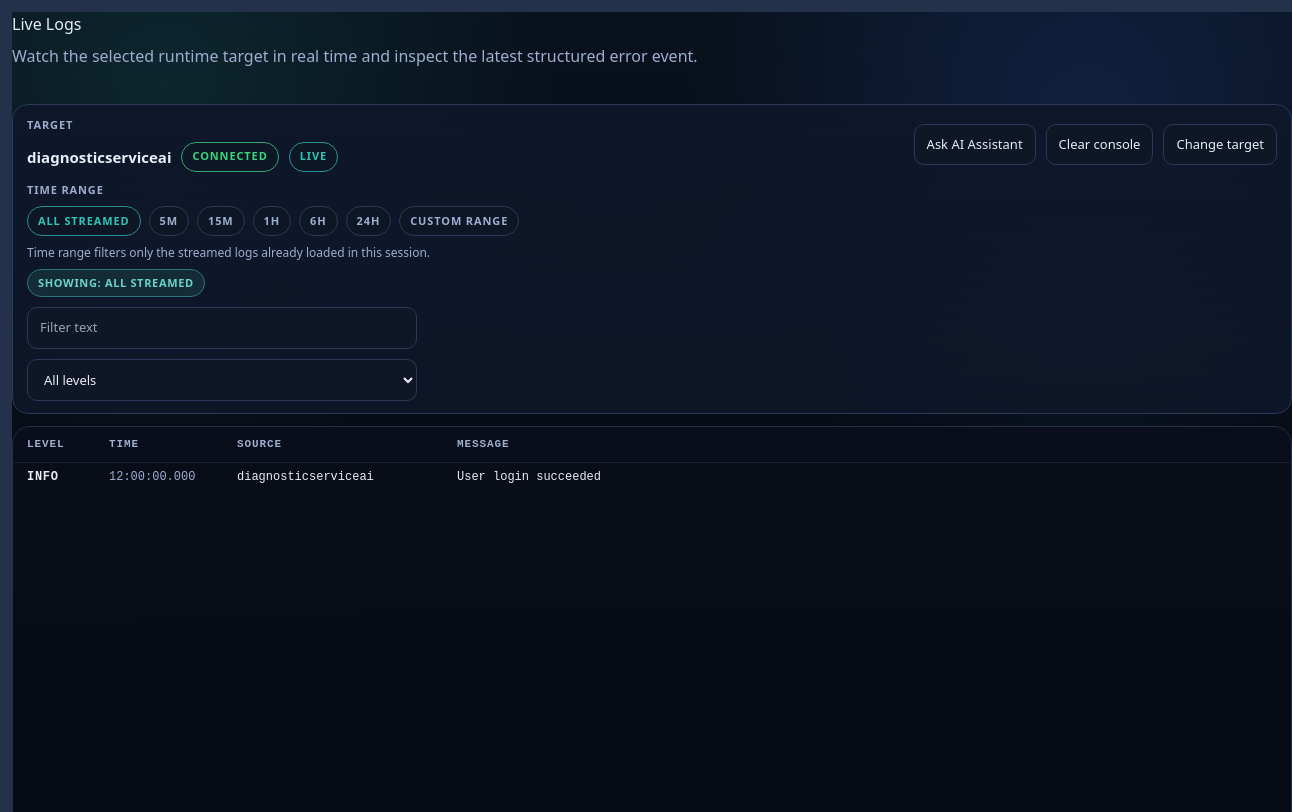
LiveLogsPage › clears the client-side stream when clear is pressed
Click the button "Clear console": (1100, 144) top-left (1046, 124), bottom-right (1154, 165)
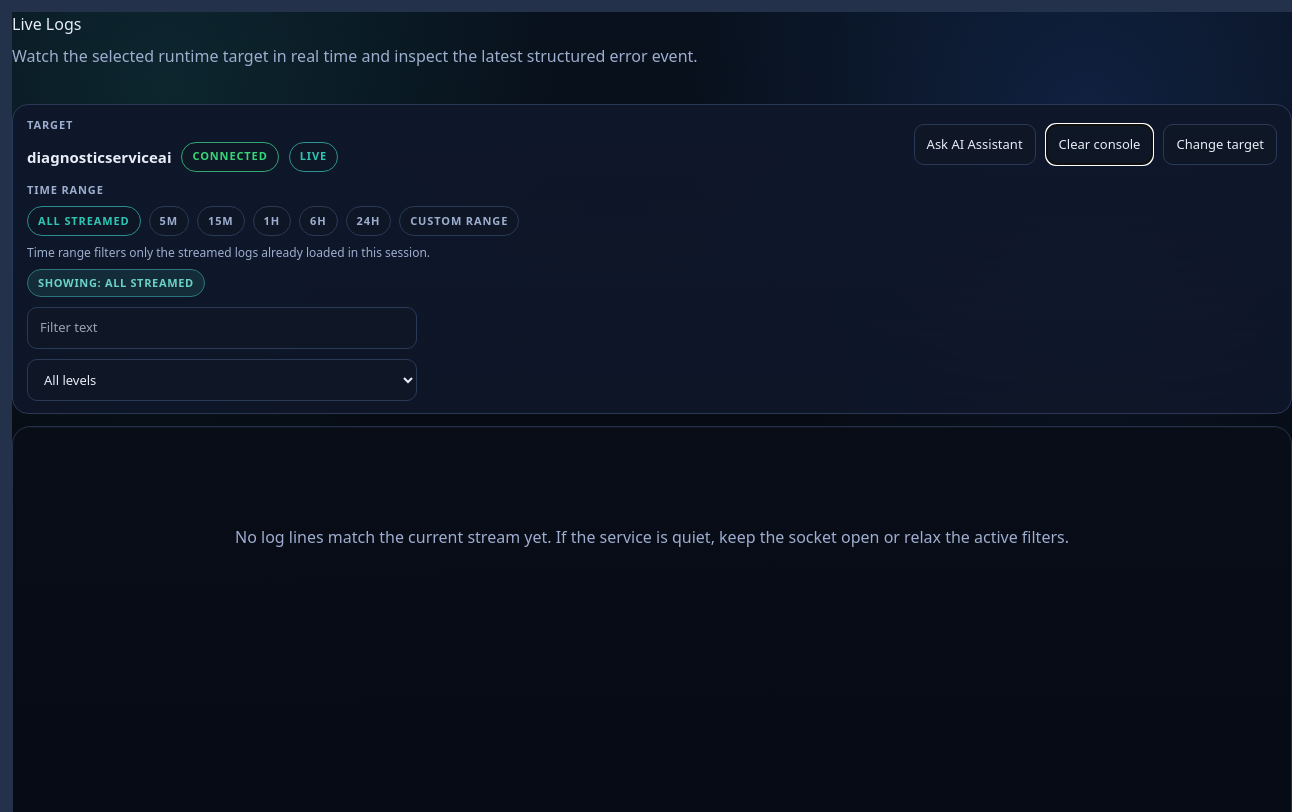
Result: the text "User login succeeded" is gone
